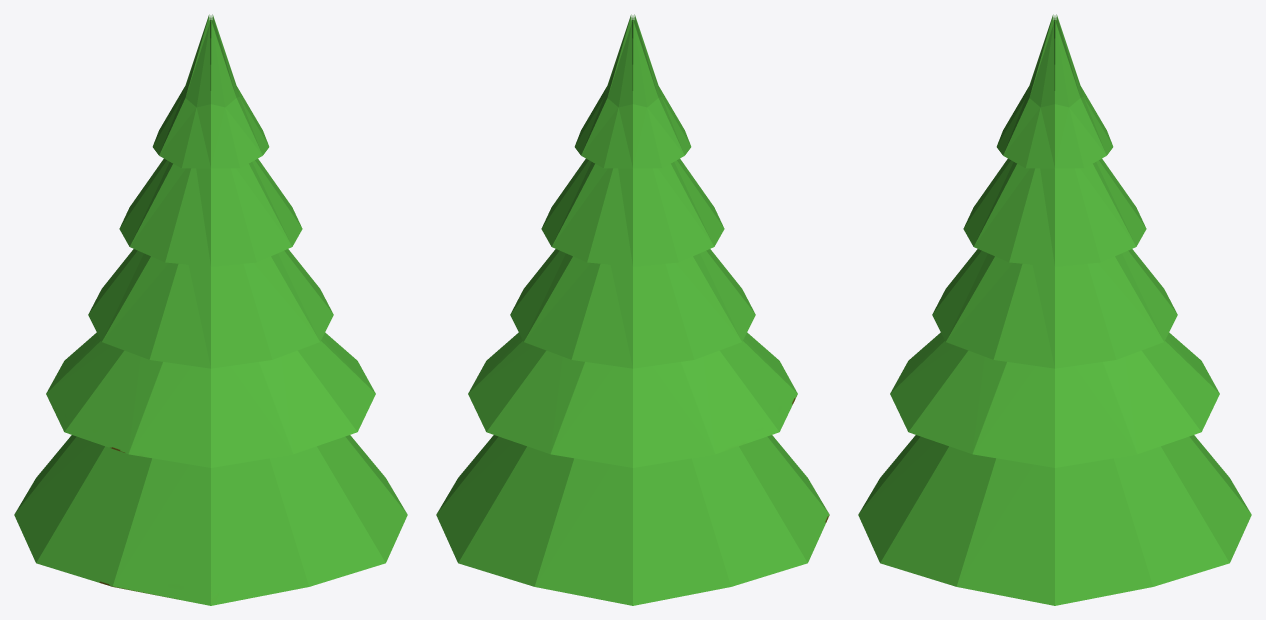
Rendered from lowPolyPineTreeblend.obj.
3 renders of one model, left to right at view 1: azimuth 30°, elevation 25°; view 2: azimuth 150°, elevation 25°; view 3: azimuth 270°, elevation 25°, orthographic.
Parts seen in each view (by area): view 1: Tree_Cylinder; view 2: Tree_Cylinder; view 3: Tree_Cylinder.
Part boxes in pixels (bbox=[...]): Tree_Cylinder: bbox=[14, 14, 407, 605]; Tree_Cylinder: bbox=[436, 14, 829, 605]; Tree_Cylinder: bbox=[858, 14, 1251, 605].
Bounding box in the file's own units: 3.43 × 5.4 × 3.34.
